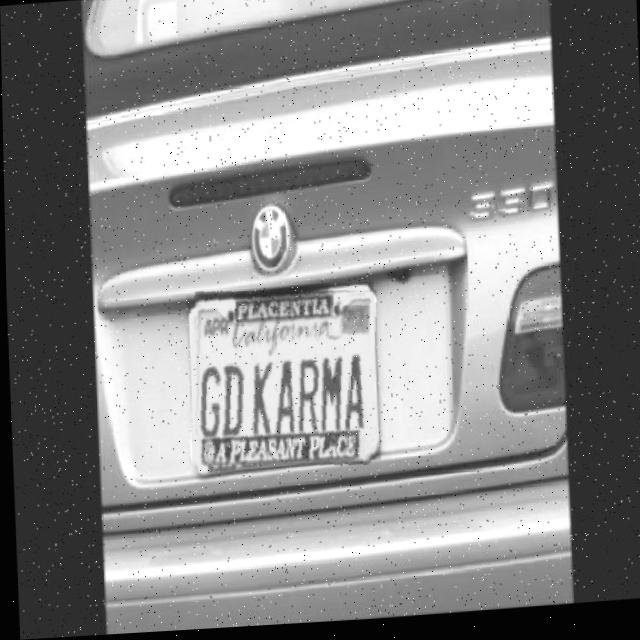LicensePlate: (184, 285, 378, 477)
